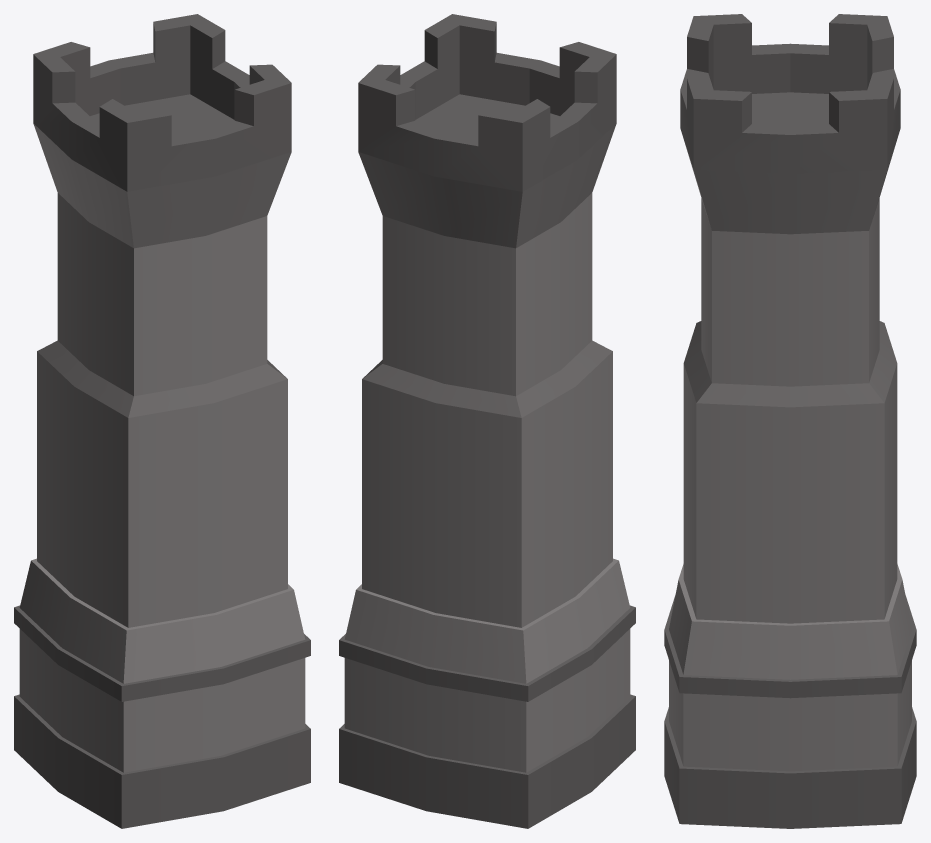
Rendered from Modular_wall_Wall_Tower.fbx.
3 renders of one model, left to right at view 1: azimuth 30°, elevation 25°; view 2: azimuth 150°, elevation 25°; view 3: azimuth 270°, elevation 25°, orthographic. The views are drawn at different scales.
Parts seen in each view (by area): view 1: Wall_Tower; view 2: Wall_Tower; view 3: Wall_Tower.
Part boxes in pixels (left/top/right/bottom): Wall_Tower: left=14, top=14, right=310, bottom=828; Wall_Tower: left=339, top=14, right=635, bottom=828; Wall_Tower: left=664, top=14, right=916, bottom=828.
Size of the model in its own units: 785 by 2509 by 797.
